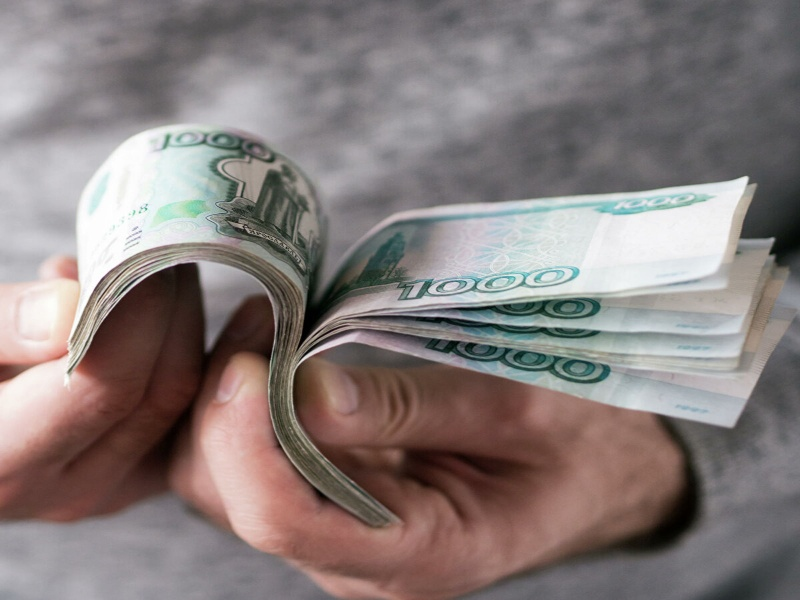cash: (63, 126, 790, 525)
